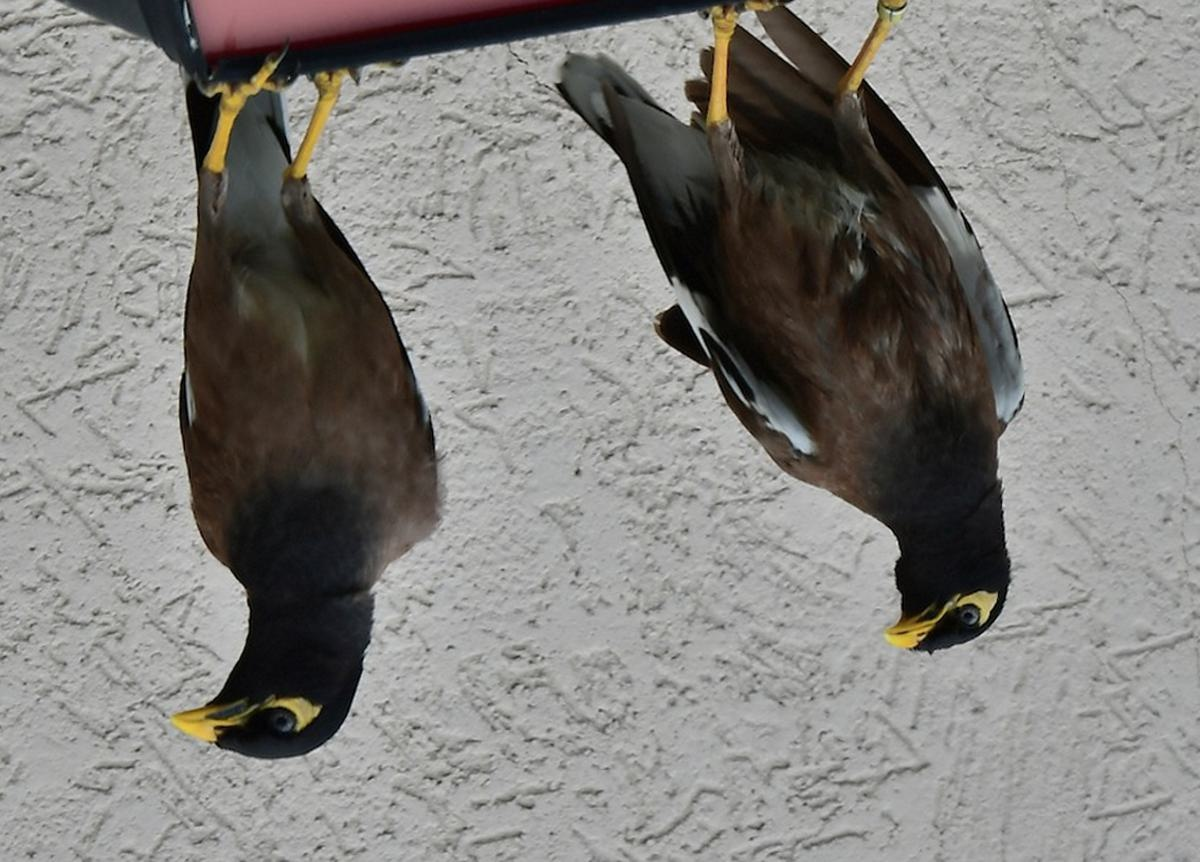myna: (568, 1, 1067, 677), (135, 67, 463, 781)
